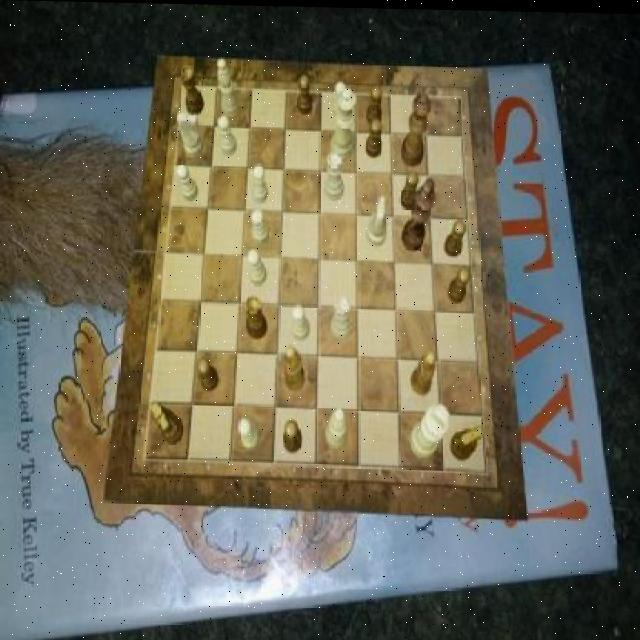bishop: (412, 348, 437, 394), (284, 343, 306, 389)
black-bishop: (401, 176, 437, 251)
black-king: (151, 401, 184, 444), (451, 423, 484, 460)
black-knight: (445, 217, 467, 255), (448, 265, 470, 301), (197, 357, 219, 392), (400, 170, 419, 209), (366, 117, 382, 158), (283, 419, 302, 453), (366, 85, 382, 125), (298, 74, 314, 113)
black-pawn: (402, 90, 432, 165)
black-queen: (182, 65, 206, 116), (245, 295, 268, 338)
black-rook: (217, 58, 240, 116), (325, 407, 347, 449)
white-bishop: (411, 401, 452, 458)
white-king: (177, 111, 203, 157), (366, 194, 387, 245)
white-knight: (175, 163, 198, 202), (218, 115, 238, 156), (238, 418, 260, 451), (252, 163, 270, 203), (248, 248, 267, 285), (292, 304, 310, 340), (251, 209, 268, 245), (334, 80, 349, 118)
white-pawn: (330, 87, 358, 160)
white-queen: (324, 152, 344, 200), (331, 293, 352, 338)
